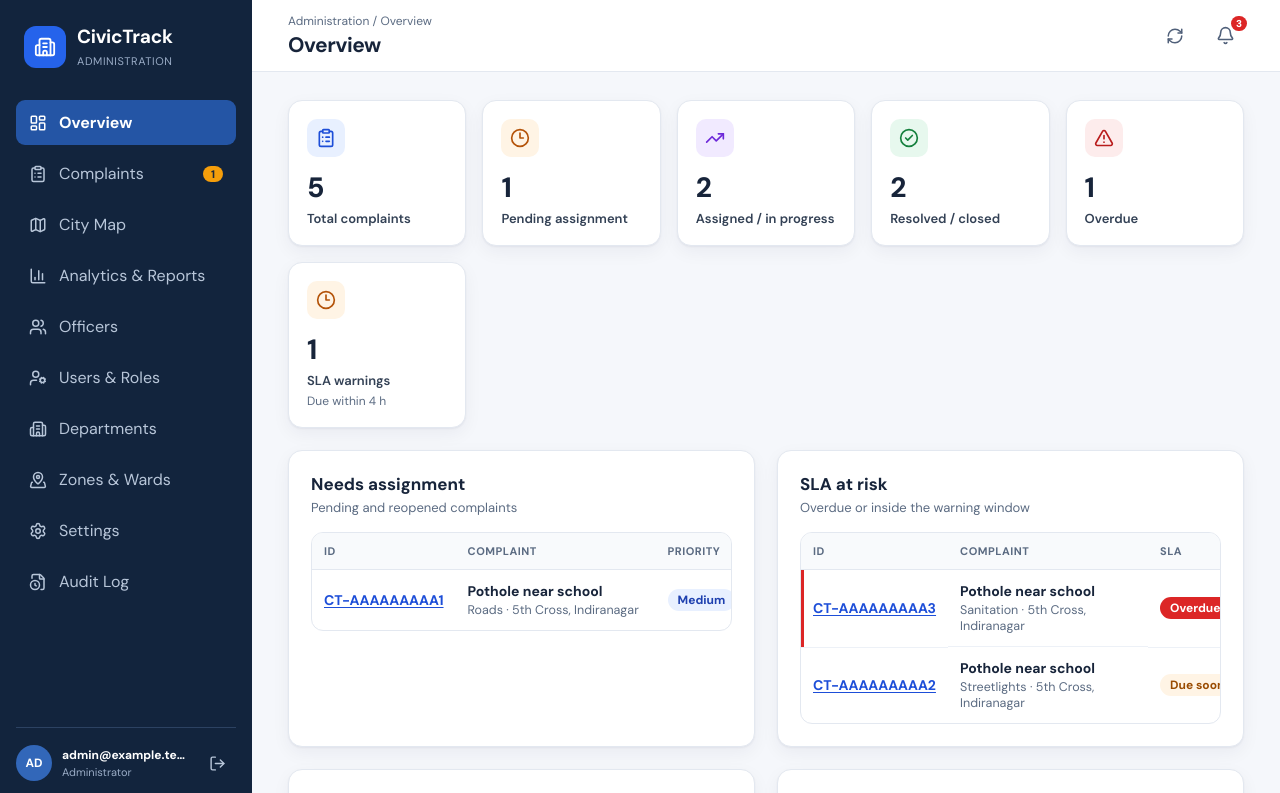
it: admin management › invites staff and lists audit entries
Expected: the text "Administration / Overview" is shown, [288,12,432,28]
Click the button "Users & Roles". click: (126, 378)
box: [16,355,236,400]
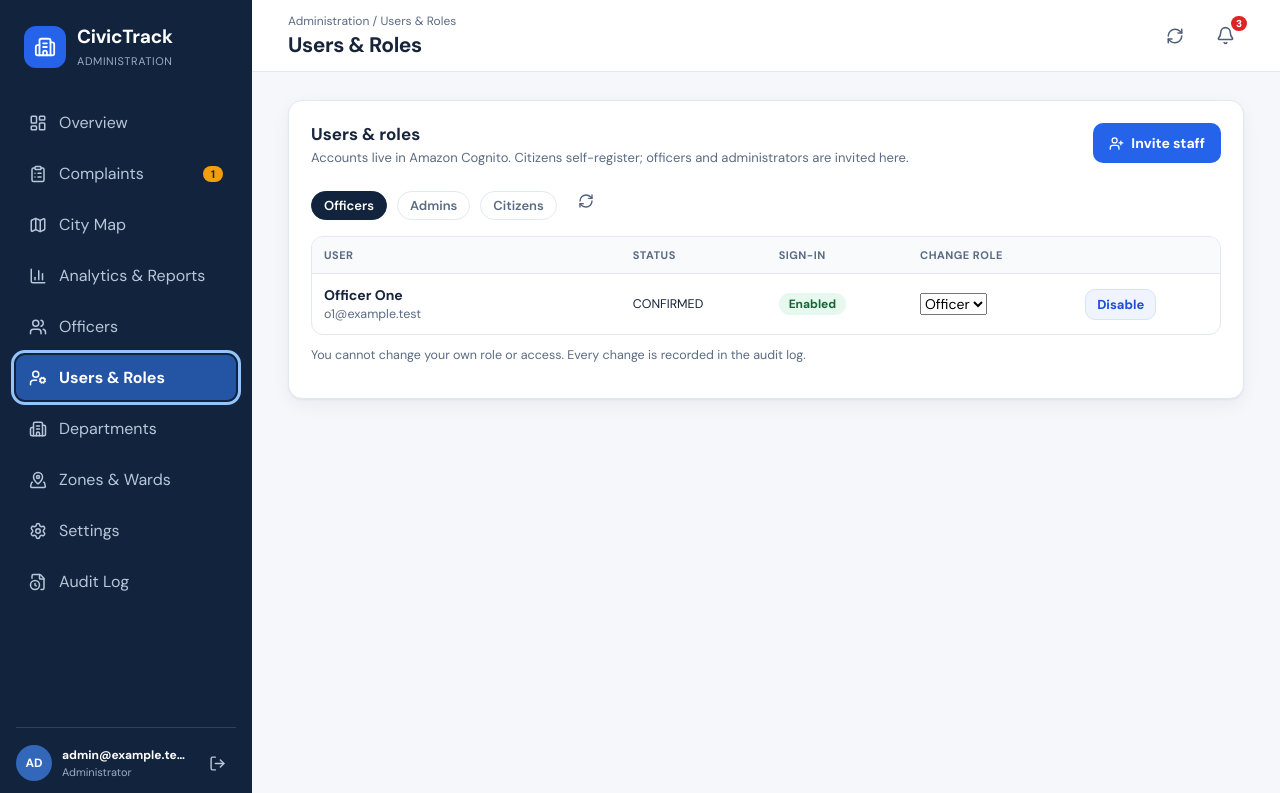
Now the text "o1@example.test" is shown, box [324,306,421,322]
Click the button "Invite staff". click: (1157, 143)
box: [1093,123,1221,163]
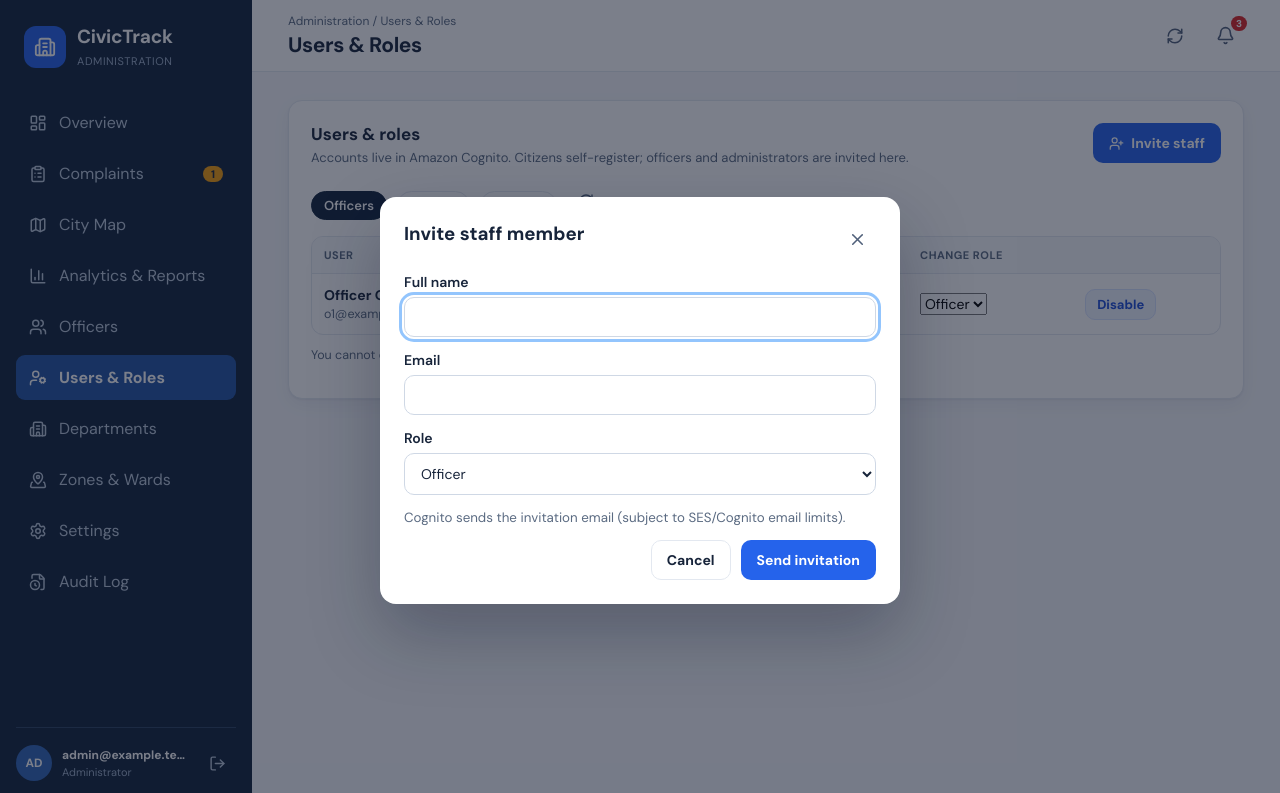
Type "New Officer" into the field labelled "Full name". click: (640, 316)
box: [404,296,876,336]
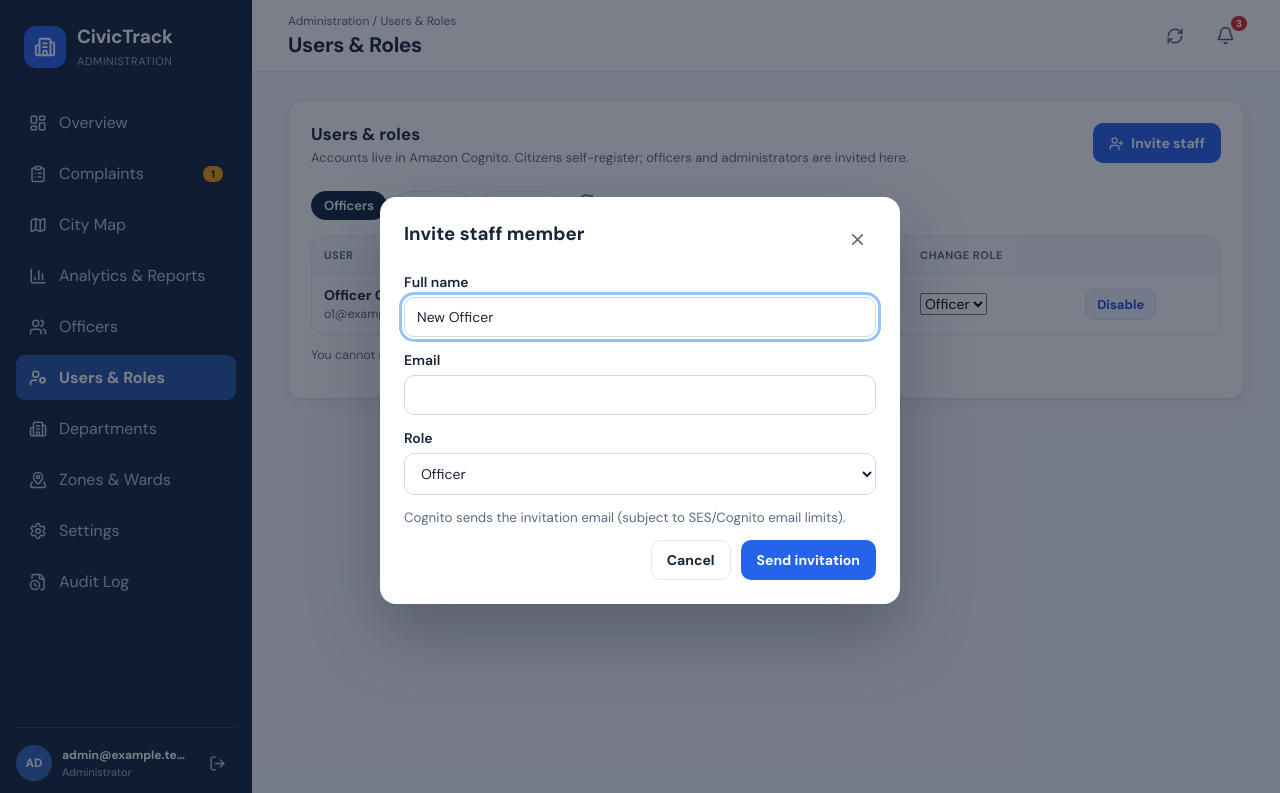
Type "new@example.test" into the field labelled "Email". click: (640, 394)
box: [404,374,876,414]
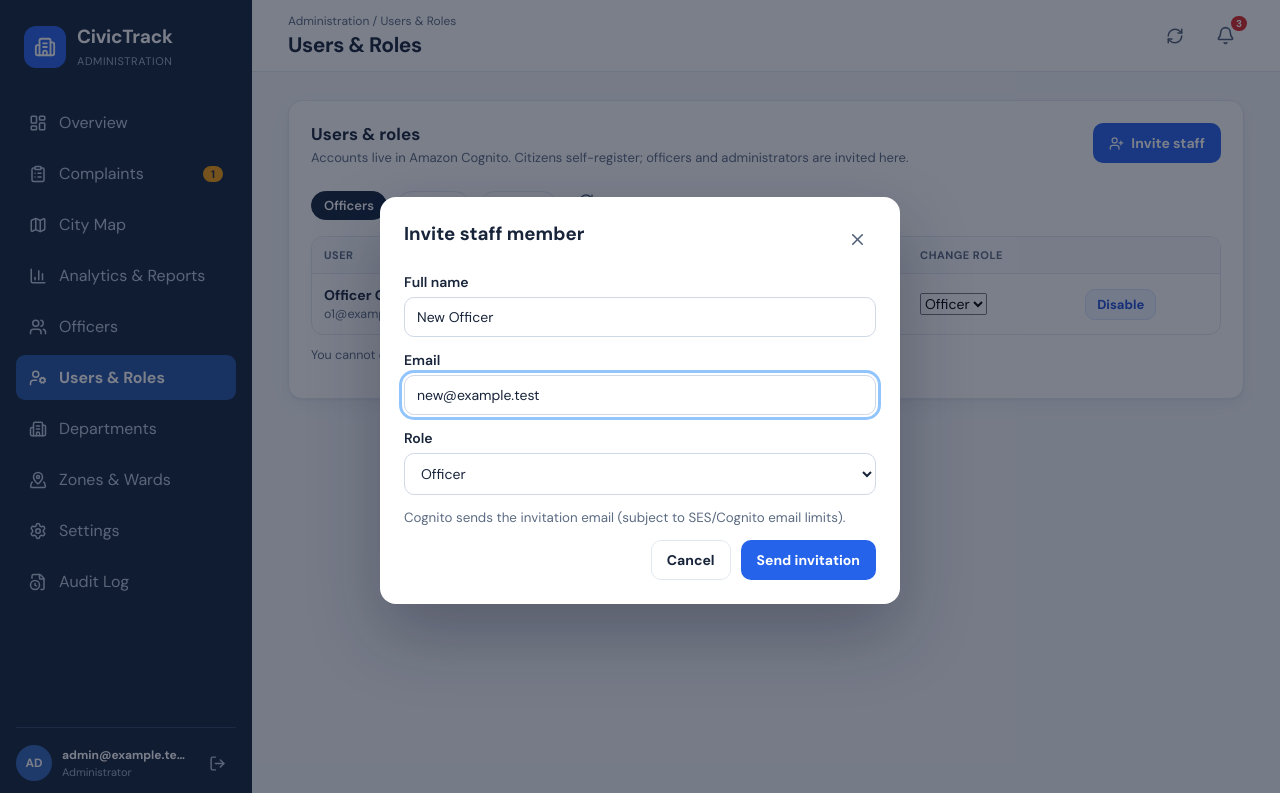
Click the button "Send invitation". click: (808, 560)
box: [741,540,876,580]
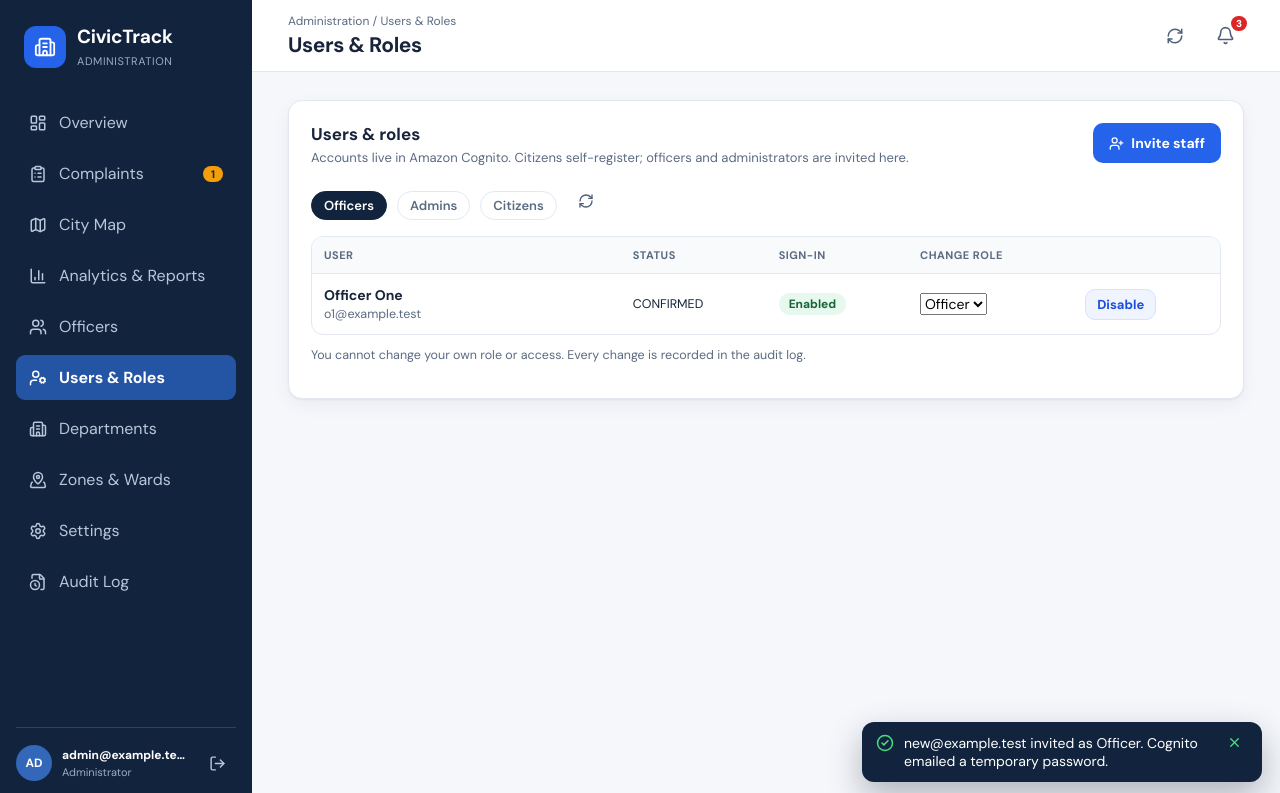
Click the button "Audit Log". click: (126, 582)
box: [16,559,236,604]
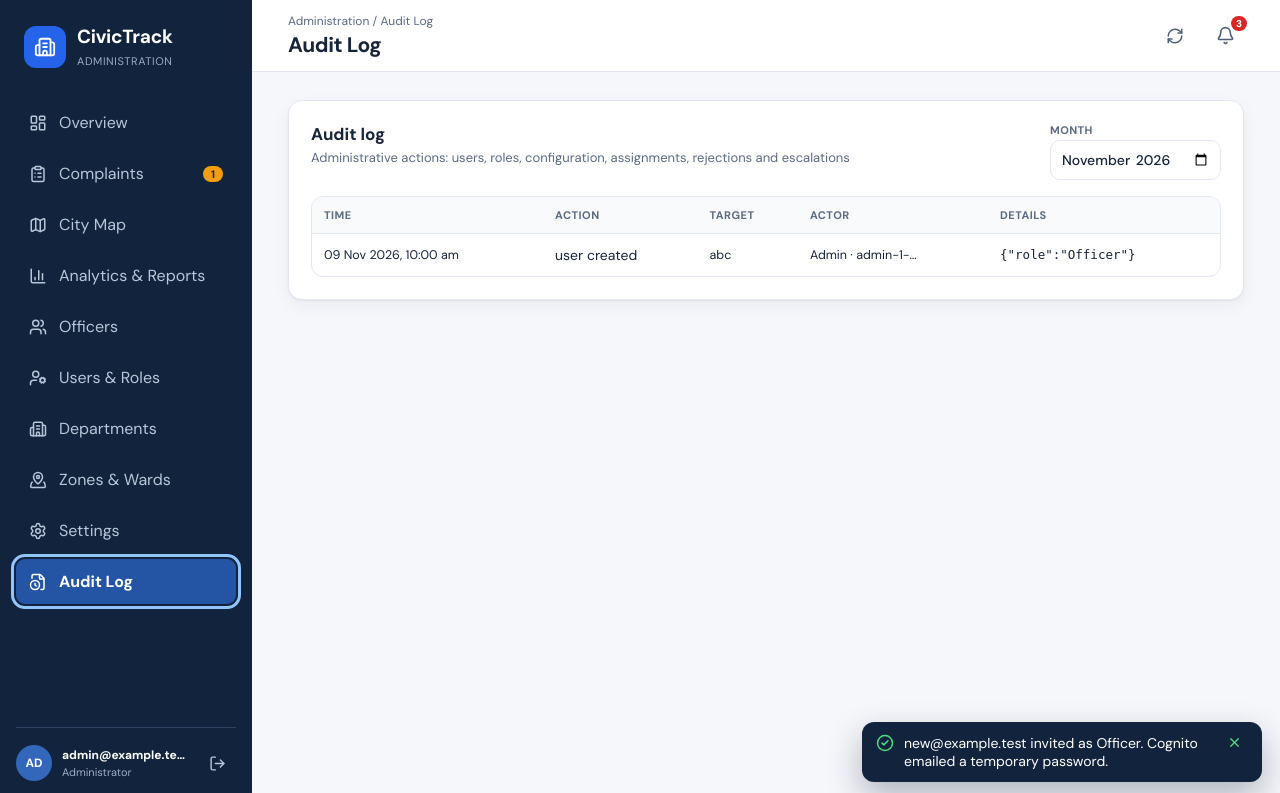
Now the text "user created" is shown, box [543,234,698,276]
